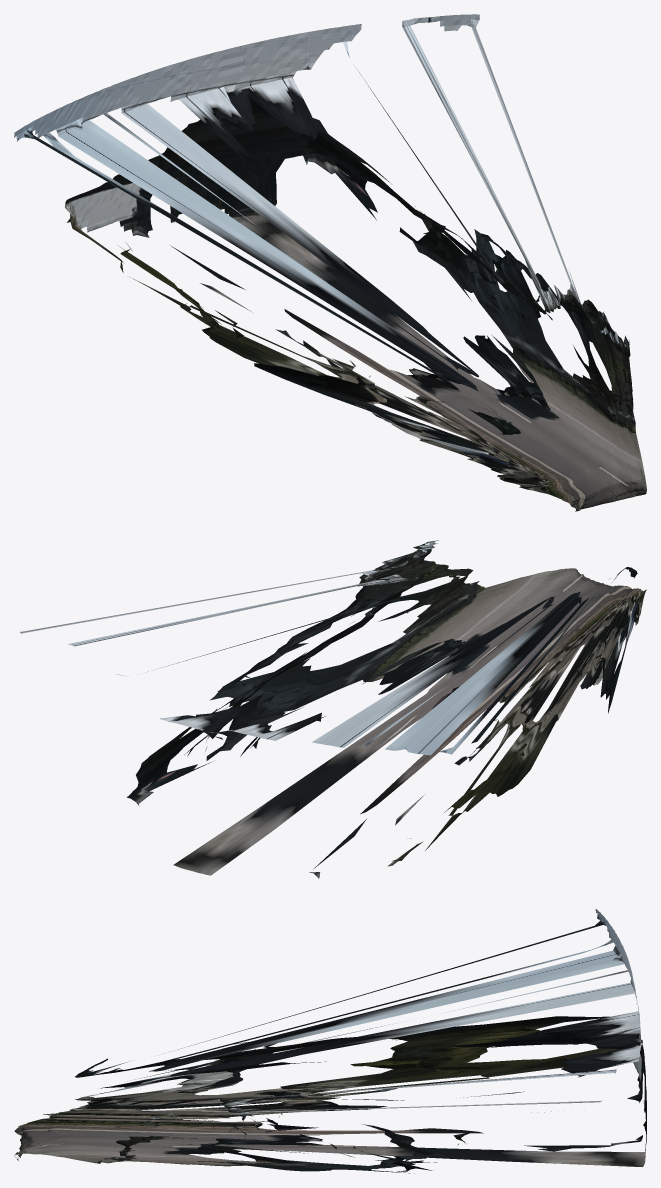
3 views of the same model, one above another, from view 1: azimuth 30°, elevation 25°; view 2: azimuth 150°, elevation 25°; view 3: azimuth 270°, elevation 25° (orthographic). The views are drawn at different scales.
Visible parts, largest first — view 1: defaultobject; view 2: defaultobject; view 3: defaultobject.
Part boxes in pixels (box(x1,y1,x2,y2)): defaultobject: box(14, 14, 646, 511); defaultobject: box(20, 540, 646, 878); defaultobject: box(14, 909, 646, 1173).
Bounding box in the file's own units: 31.27 × 11.73 × 44.61.
1 material, 1 textured.
